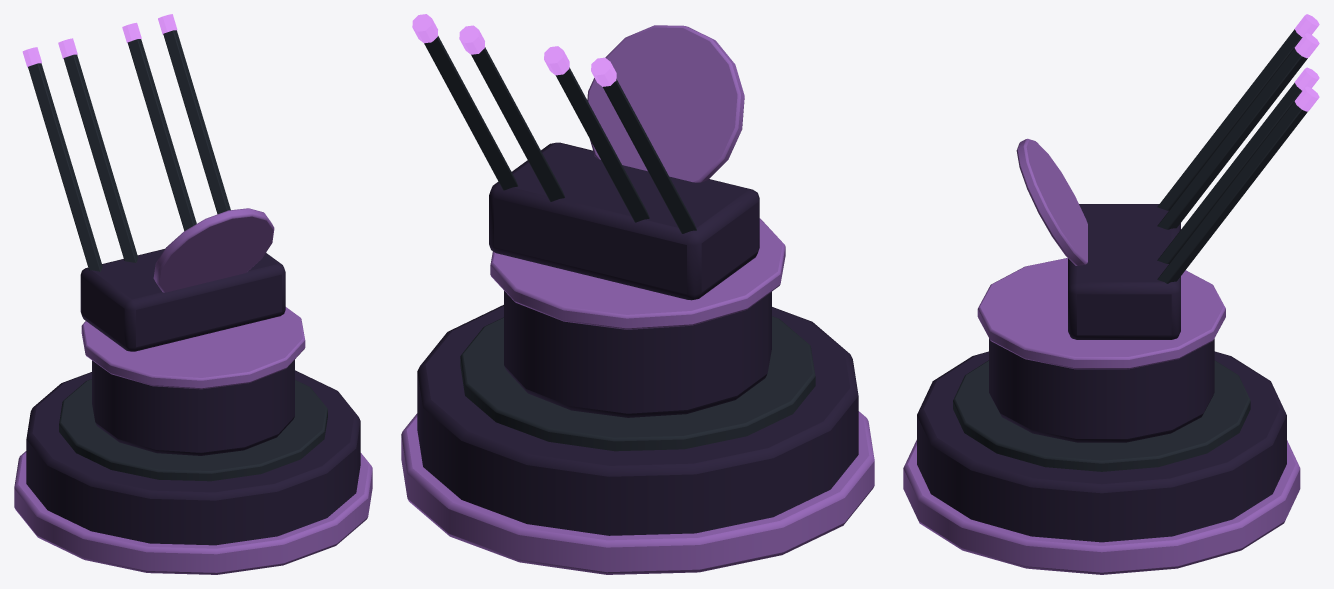
File: katzen_turret_air.glb
3 renders of one model, left to right at view 1: azimuth 30°, elevation 25°; view 2: azimuth 150°, elevation 25°; view 3: azimuth 270°, elevation 25°, orthographic. The views are drawn at different scales.
Visible parts, largest first — view 1: base, mount, cradle, base_ring, mount_ring, base_top, dish, barrel_-1_0, barrel_-1_1, barrel_1_0, barrel_1_1; view 2: base, cradle, mount, base_ring, base_top, dish, mount_ring, barrel_-1_0, barrel_1_1, barrel_-1_1, barrel_1_0; view 3: base, mount, base_ring, mount_ring, cradle, base_top, dish, barrel_1_1, barrel_-1_0, barrel_-1_1, barrel_1_0.
Boxes of the visible parts, bbox=[...] form: base: bbox=[26, 370, 360, 545]; mount: bbox=[92, 360, 294, 455]; cradle: bbox=[80, 249, 285, 351]; base_ring: bbox=[14, 451, 372, 574]; mount_ring: bbox=[81, 307, 305, 389]; base_top: bbox=[59, 379, 327, 481]; dish: bbox=[153, 208, 274, 292]; barrel_-1_0: bbox=[63, 54, 138, 262]; barrel_-1_1: bbox=[28, 63, 102, 271]; barrel_1_0: bbox=[127, 39, 196, 230]; barrel_1_1: bbox=[163, 30, 230, 214]; base: bbox=[417, 305, 858, 535]; cradle: bbox=[489, 142, 759, 300]; mount: bbox=[504, 291, 771, 417]; base_ring: bbox=[401, 411, 874, 574]; base_top: bbox=[460, 316, 815, 451]; dish: bbox=[587, 25, 744, 182]; mount_ring: bbox=[490, 218, 785, 329]; barrel_-1_0: bbox=[555, 67, 649, 222]; barrel_1_1: bbox=[424, 36, 517, 190]; barrel_-1_1: bbox=[603, 79, 696, 233]; barrel_1_0: bbox=[471, 47, 564, 201]; base: bbox=[917, 351, 1286, 542]; mount: bbox=[989, 338, 1214, 442]; base_ring: bbox=[903, 440, 1300, 574]; mount_ring: bbox=[977, 258, 1225, 369]; cradle: bbox=[1068, 204, 1180, 339]; base_top: bbox=[953, 360, 1250, 471]; dish: bbox=[1016, 138, 1087, 265]; barrel_1_1: bbox=[1157, 102, 1307, 283]; barrel_-1_0: bbox=[1157, 48, 1307, 229]; barrel_-1_1: bbox=[1157, 29, 1302, 210]; barrel_1_0: bbox=[1157, 82, 1301, 263].
Size of the model in its own units: 1.76 by 2.19 by 1.85.
